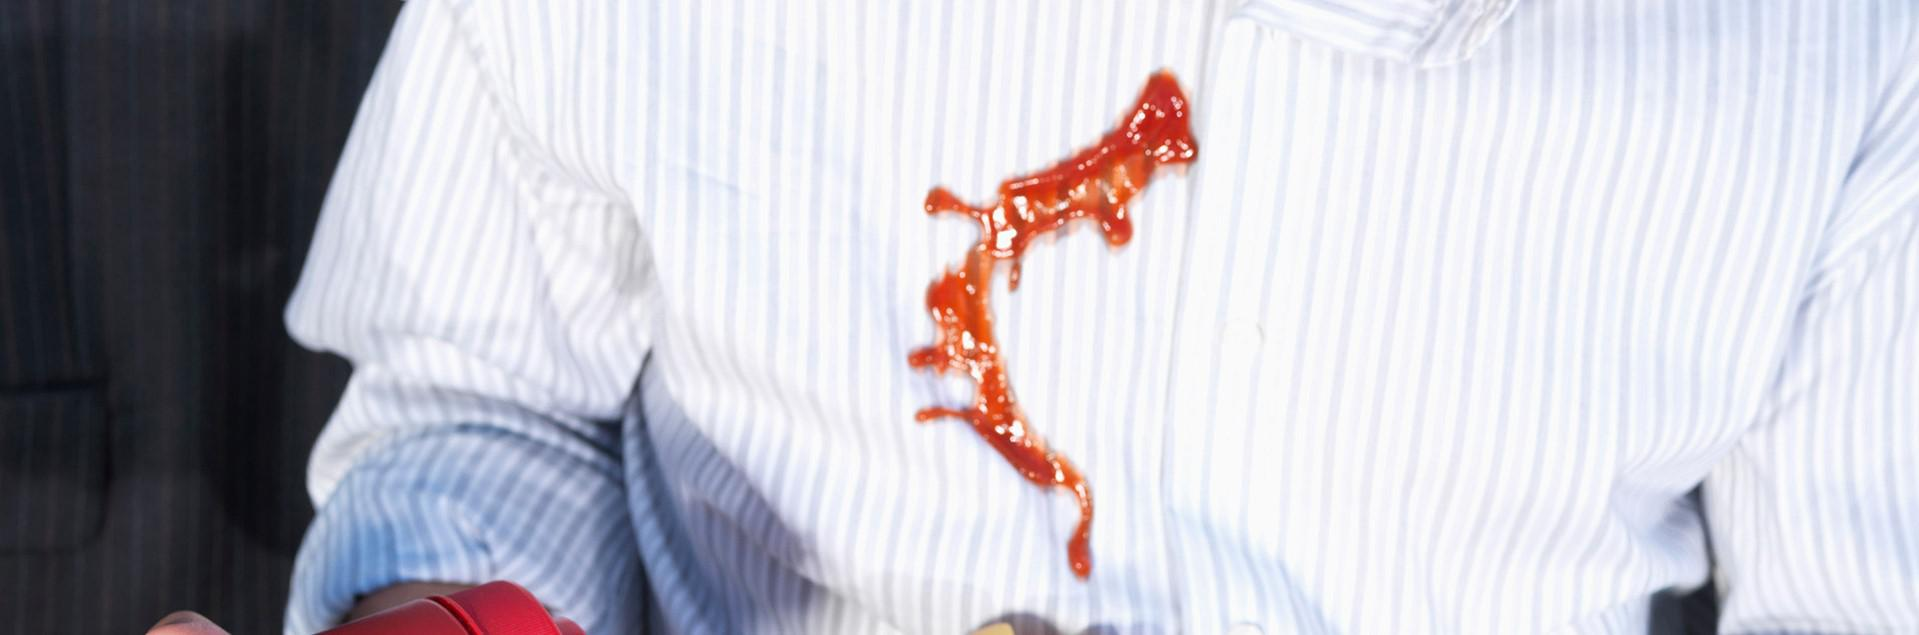gun: (902, 28, 1168, 522)
